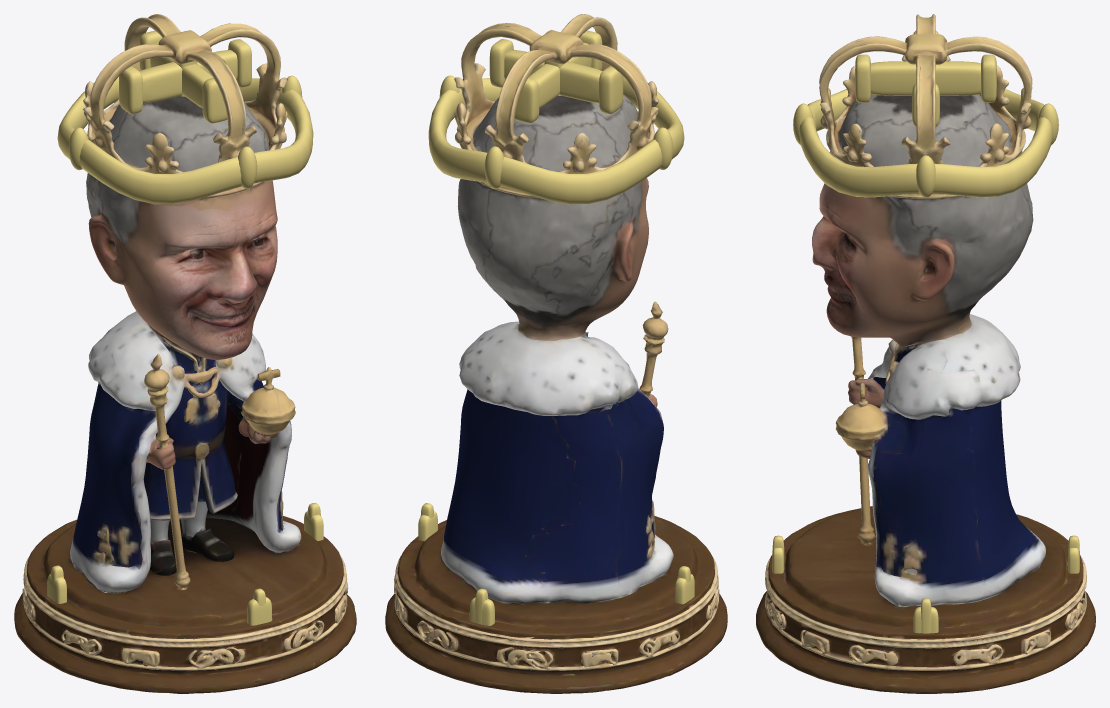
The model's file is king-riccardo.glb.
3 renders of one model, left to right at view 1: azimuth 30°, elevation 25°; view 2: azimuth 150°, elevation 25°; view 3: azimuth 270°, elevation 25°, orthographic.
Parts seen in each view (by area): view 1: world, UniversalRoleAddon_k; view 2: world, UniversalRoleAddon_k; view 3: world, UniversalRoleAddon_k.
Part boxes in pixels (left/top/right/bottom): world: left=14, top=14, right=356, bottom=693; UniversalRoleAddon_k: left=47, top=30, right=323, bottom=625; world: left=385, top=14, right=727, bottom=693; UniversalRoleAddon_k: left=418, top=30, right=694, bottom=625; world: left=756, top=14, right=1095, bottom=693; UniversalRoleAddon_k: left=772, top=31, right=1079, bottom=633.
Size of the model in its own units: 0.529 by 1 by 0.5288.
Materials: 2 (1 with a texture image).
